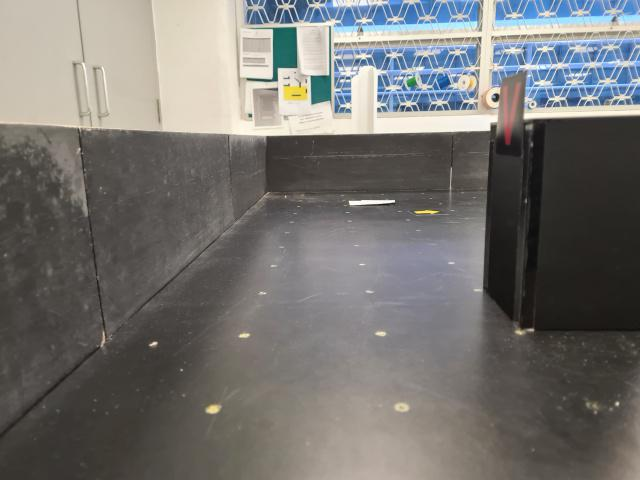v: (498, 73, 528, 158)
